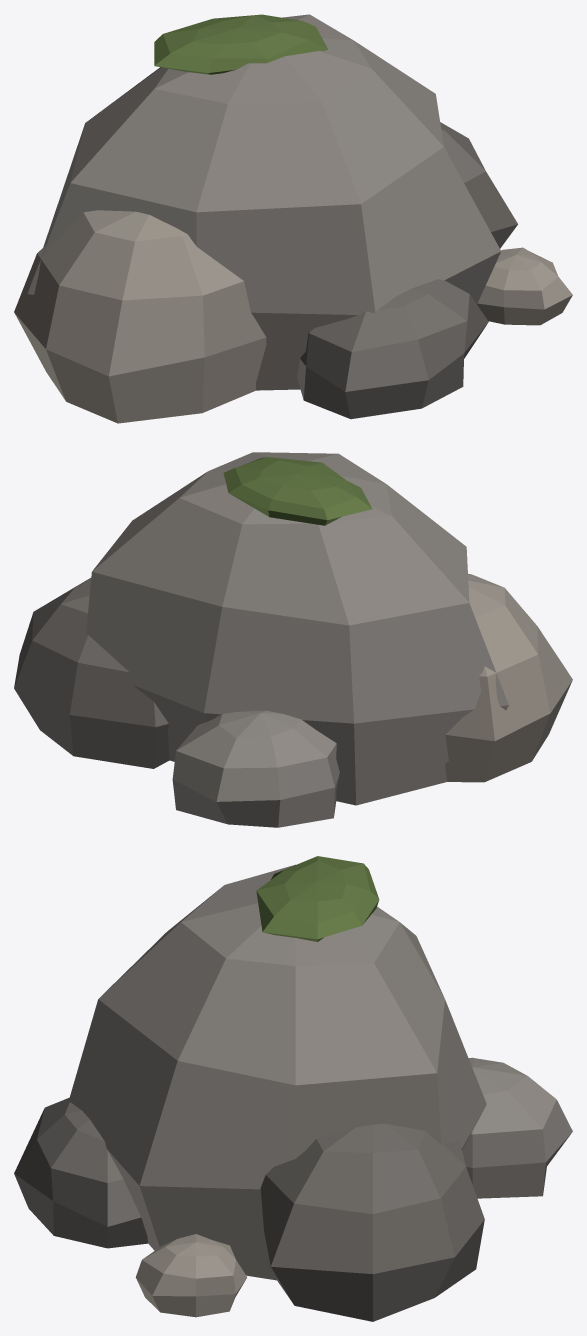
The model's file is stone_deposit_medium.glb.
The picture shows the model from 3 angles, top to bottom: view 1: azimuth 30°, elevation 25°; view 2: azimuth 150°, elevation 25°; view 3: azimuth 270°, elevation 25°; orthographic projection. The views are drawn at different scales.
Parts seen in each view (by area): view 1: stone_deposit_medium; view 2: stone_deposit_medium; view 3: stone_deposit_medium.
Part boxes in pixels (x1,y1,x2,y2): stone_deposit_medium: [14, 14, 572, 423]; stone_deposit_medium: [14, 452, 572, 827]; stone_deposit_medium: [14, 856, 572, 1321].
Bounding box in the file's own units: 5.54 × 3.03 × 5.05.
